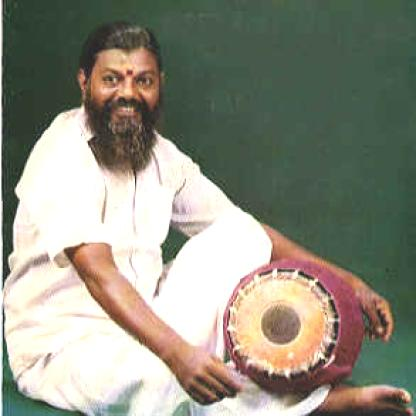Mridangam: (215, 254, 366, 396)
